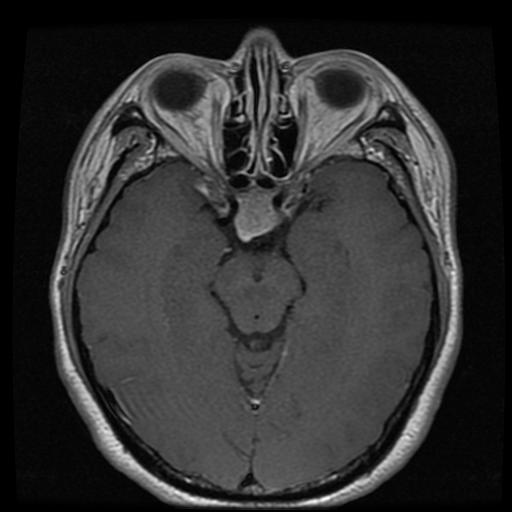Pituirity_tumour: (234, 186, 277, 241)
